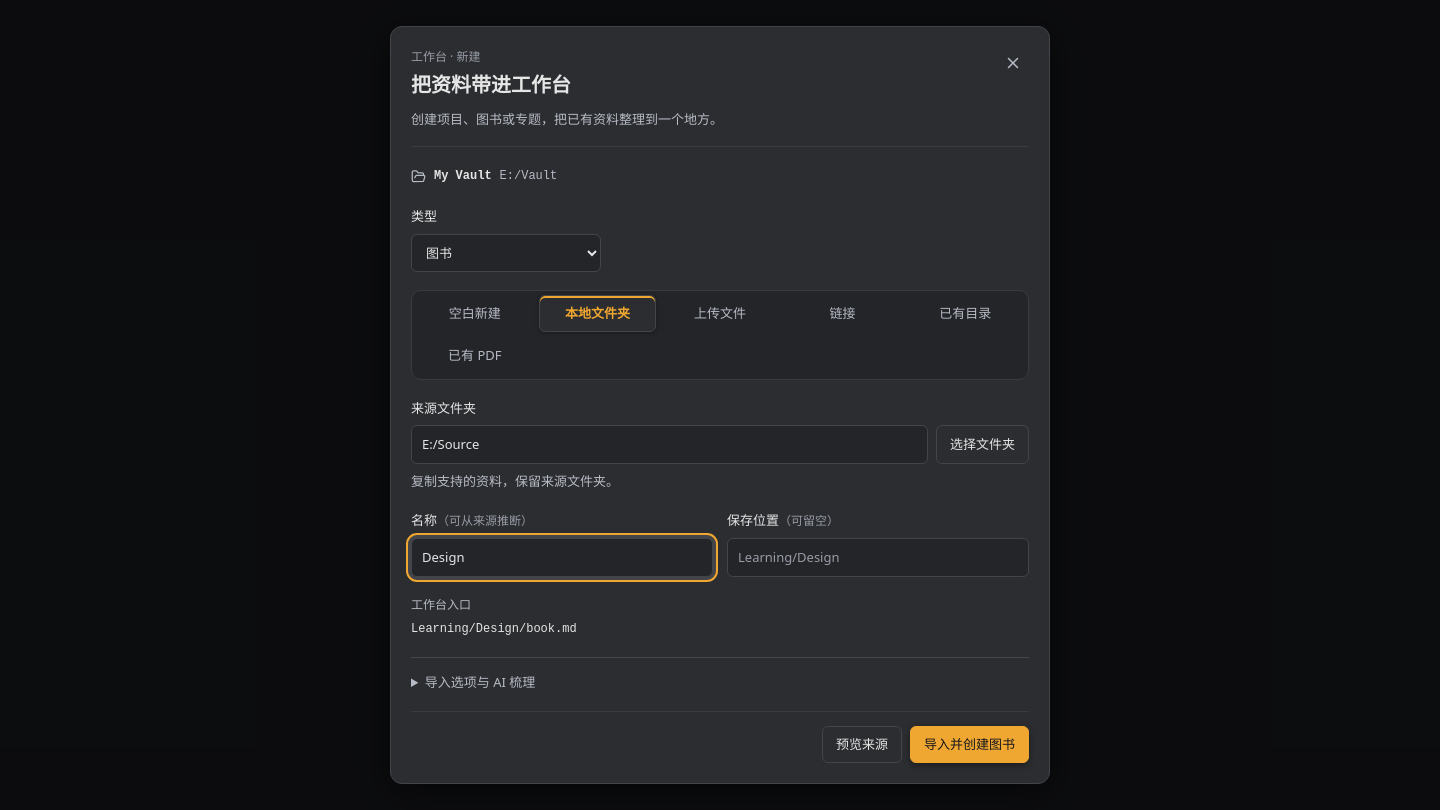
Test: SourceImportModal › shows existing-file and unsupported-source warnings in the optional preview
Click the button with test id "source-preview" at (862, 745), box [822,726,902,763]
(page scrolled)
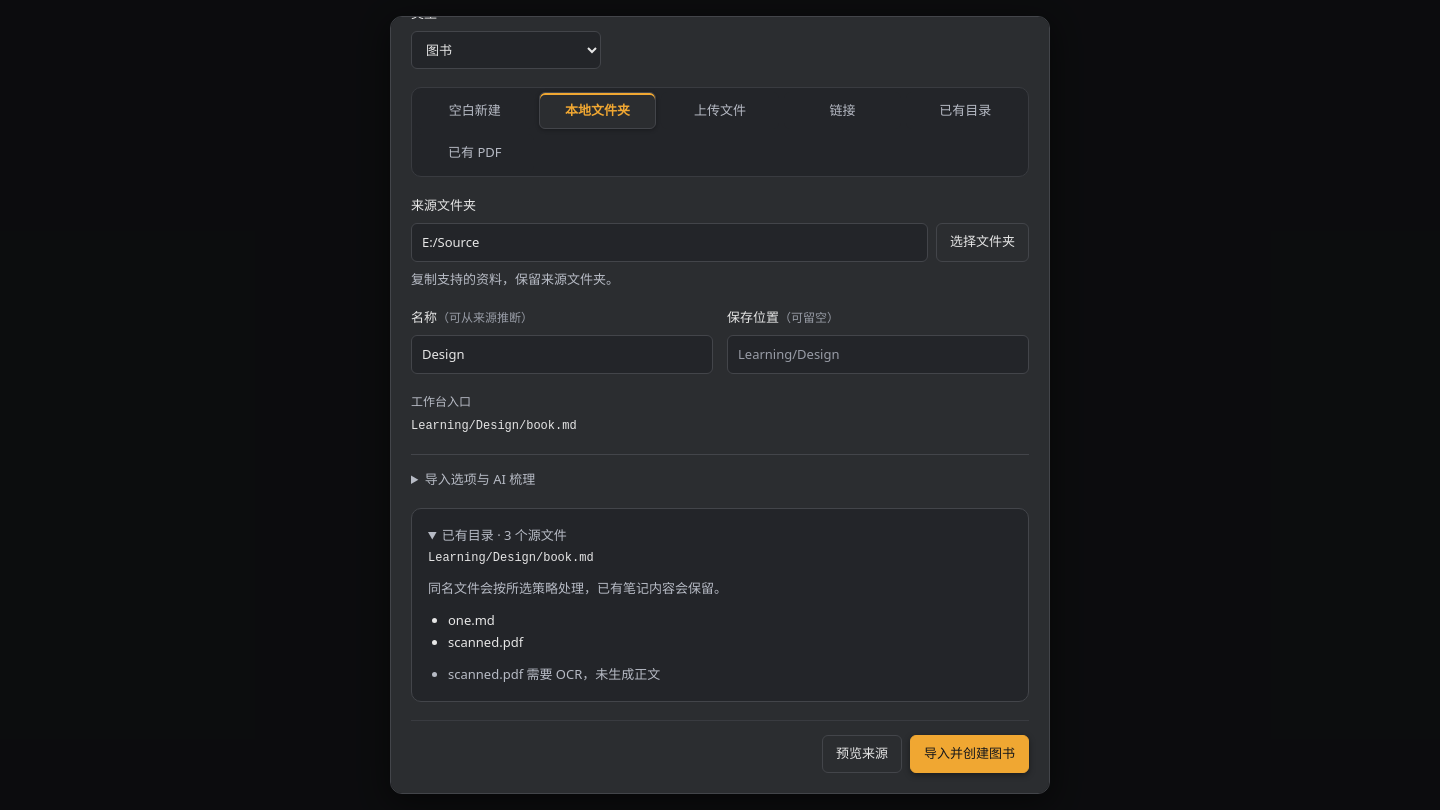
Result: the element with class "si-preview" shows "已有目录" at [442,526,567,544]
Result: the element with class "si-preview" shows "需要 OCR" at [448,665,660,683]
